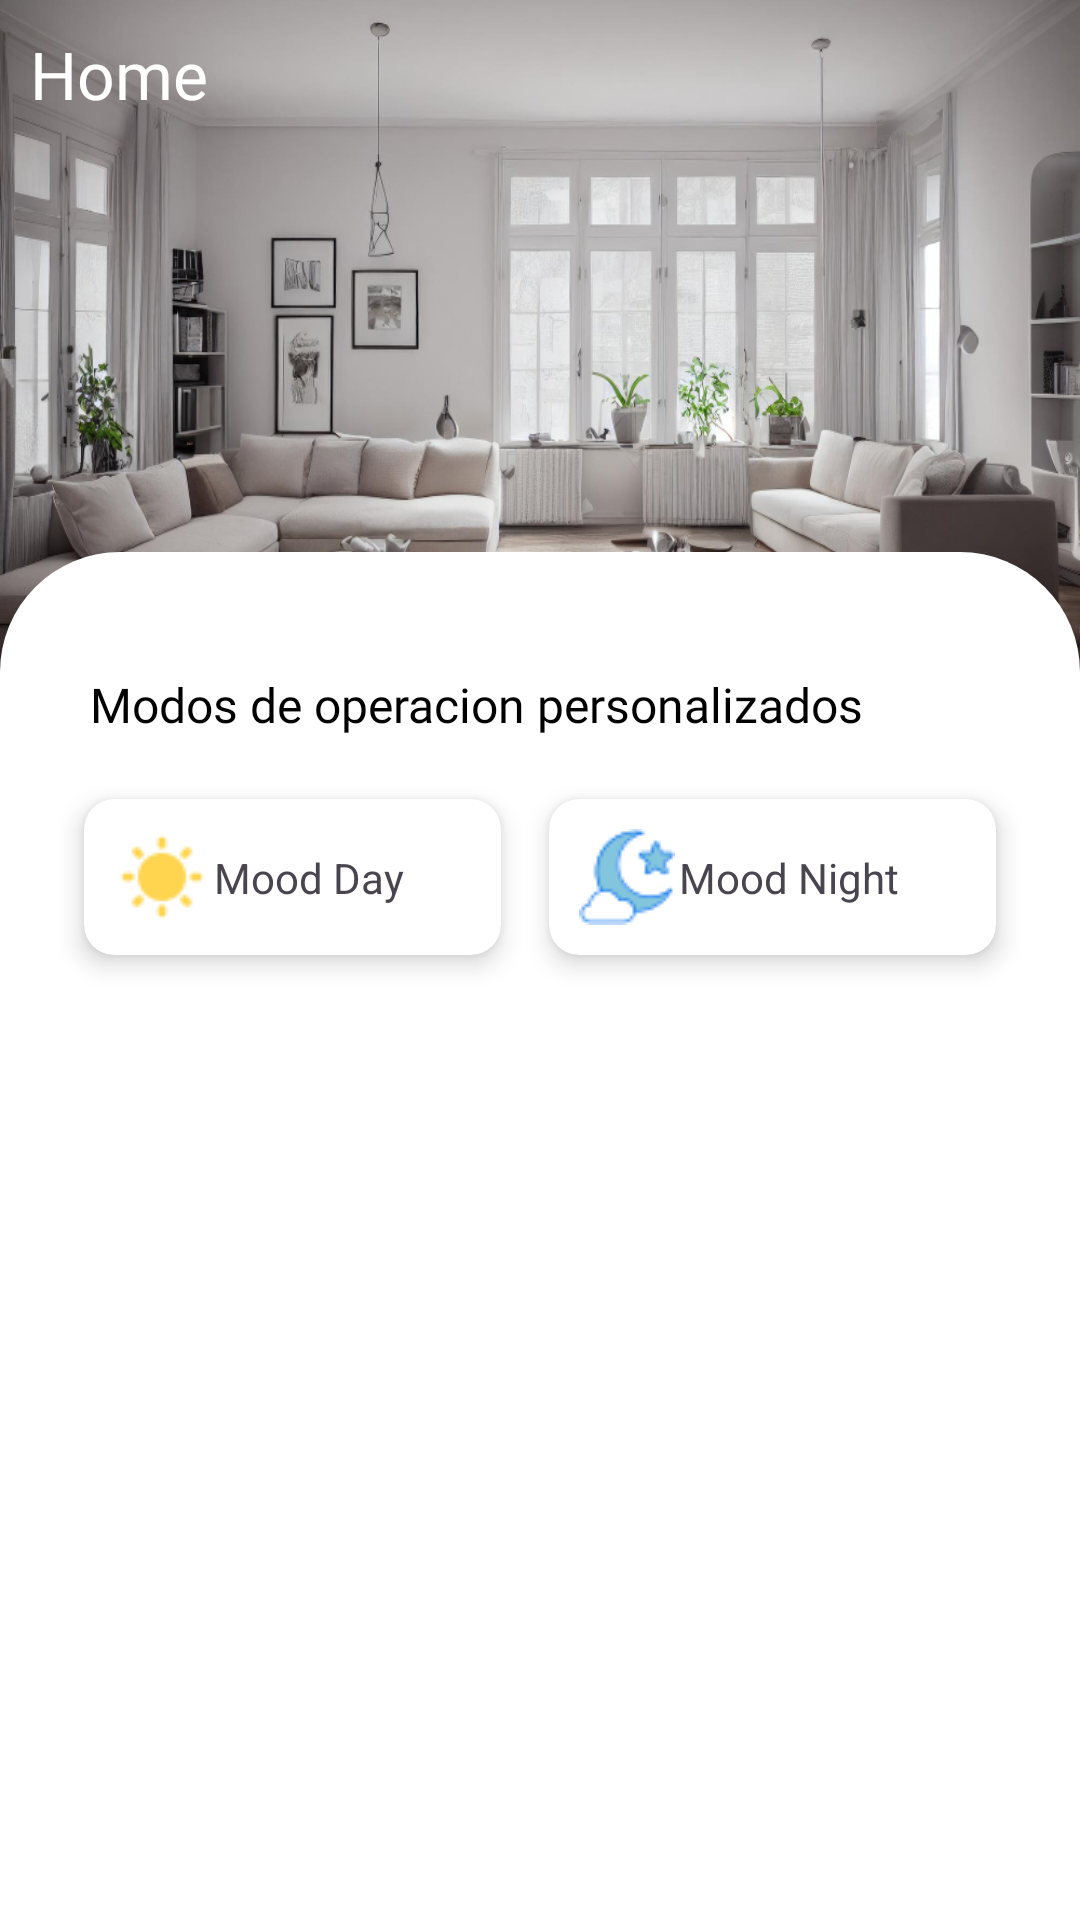

Named icons in this screenshot (1080x1920) and their centers, point (x, y):
moon: point (627, 877)
sun: point (162, 877)
